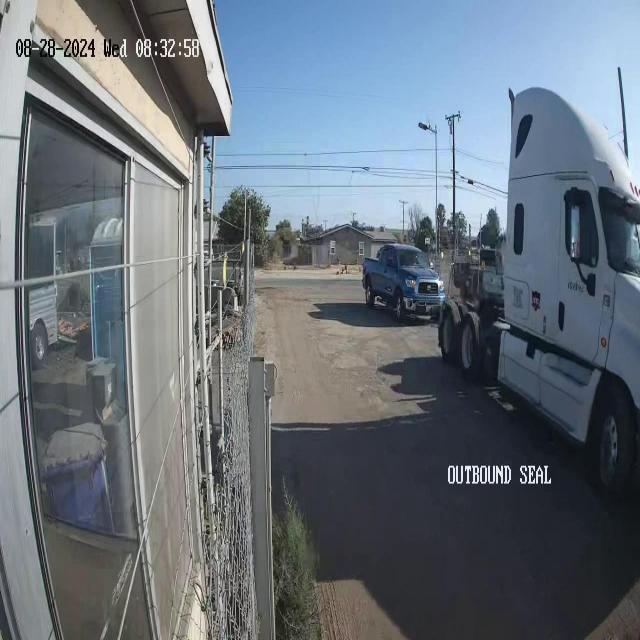TRUCK_IN: (438, 83, 639, 498)
